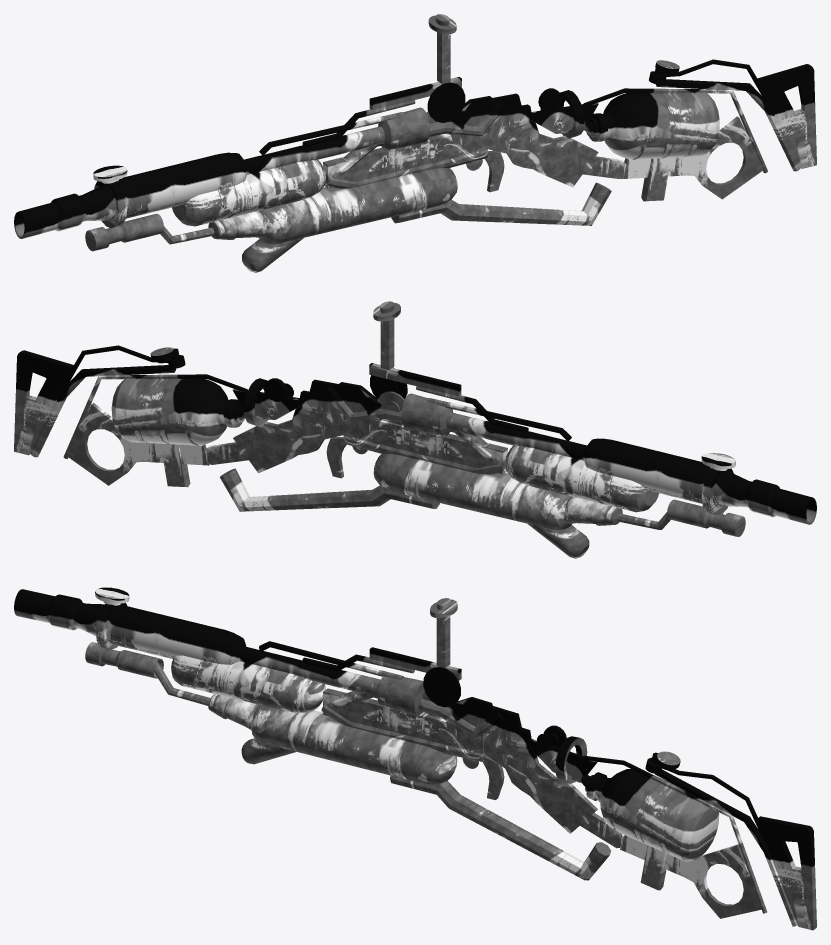
Rendered from gun.gltf.
The picture shows the model from 3 angles, top to bottom: view 1: azimuth 30°, elevation 25°; view 2: azimuth 150°, elevation 25°; view 3: azimuth 330°, elevation 25°; orthographic projection.
Visible parts, largest first — view 1: gun; view 2: gun; view 3: gun.
Boxes of the visible parts, x1=… form: gun: x1=14, y1=14, x2=816, y2=272; gun: x1=14, y1=301, x2=816, y2=558; gun: x1=14, y1=587, x2=816, y2=930.
Size of the model in its own units: 1.04 by 0.3112 by 0.0767.
Materials: 1 (1 with a texture image).
